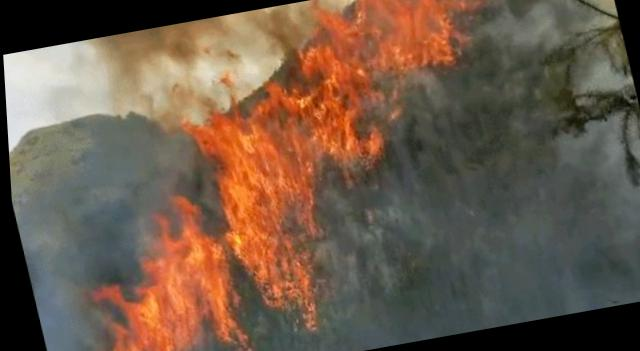fire: (15, 0, 526, 349)
